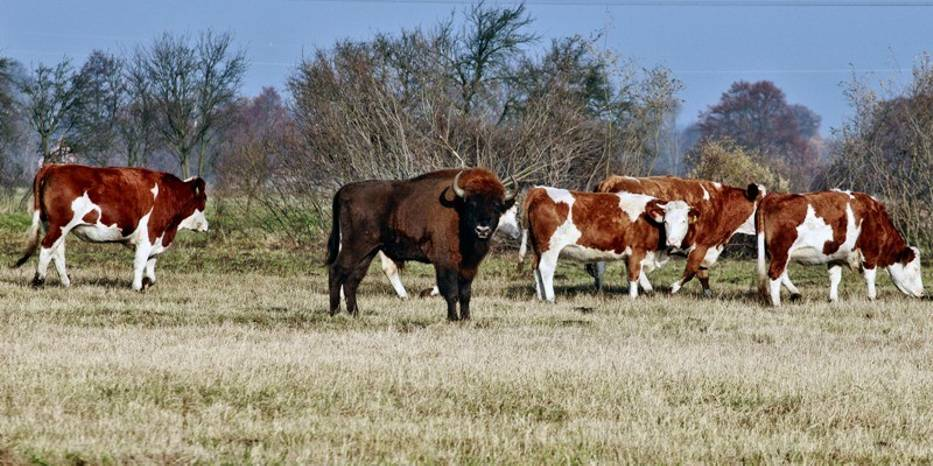zubr: (300, 155, 521, 332)
